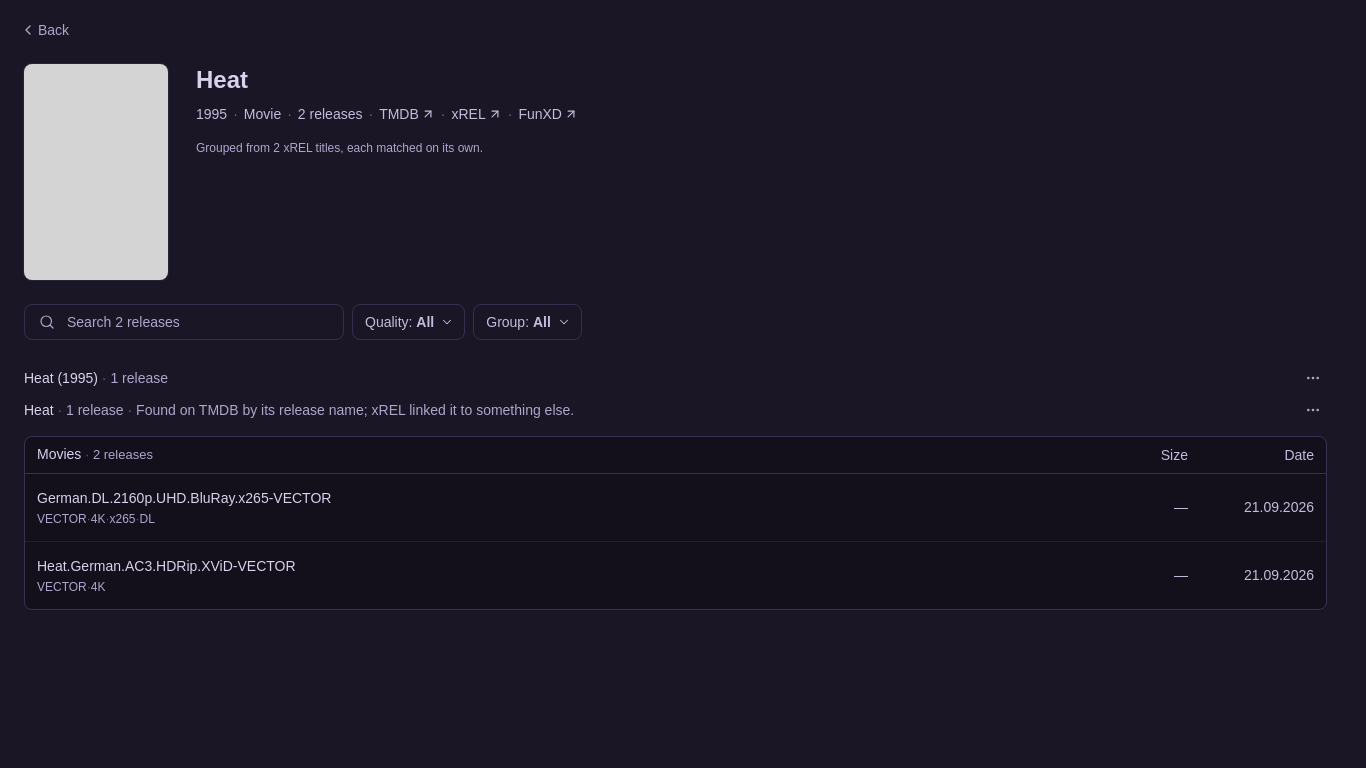
Scenario: TitleView › lists every title on a merged tile with its menu, over one table of their releases
Expected: the text "Grouped from 2 xREL titles, each matched on its own." is shown, [196,141,483,155]
Expected: the text "Heat (1995)" reads "Heat (1995) · 1 release", [24,370,168,386]
Click the button named "More options for Heat": (1313, 410) [1299,396,1327,424]
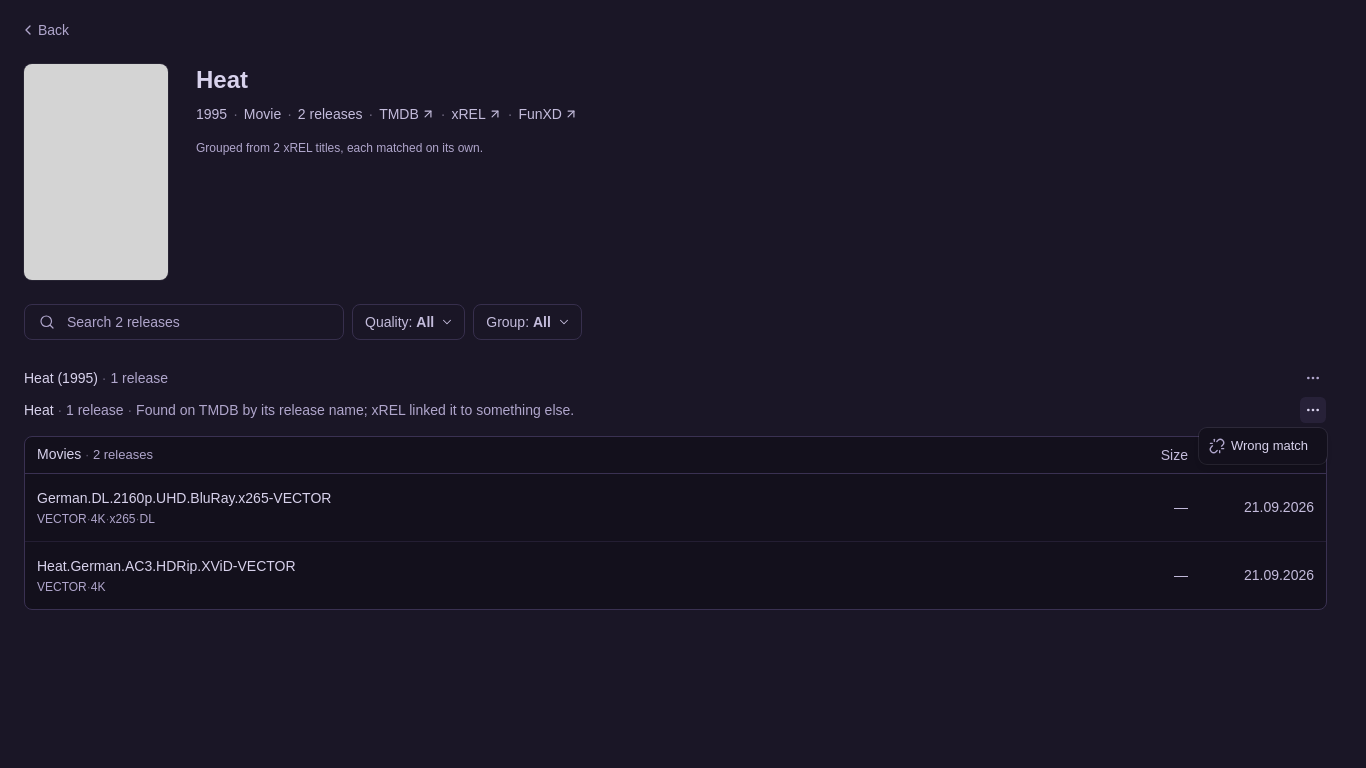
Click the menu item "Wrong match": (1259, 446) [1209,438,1308,454]
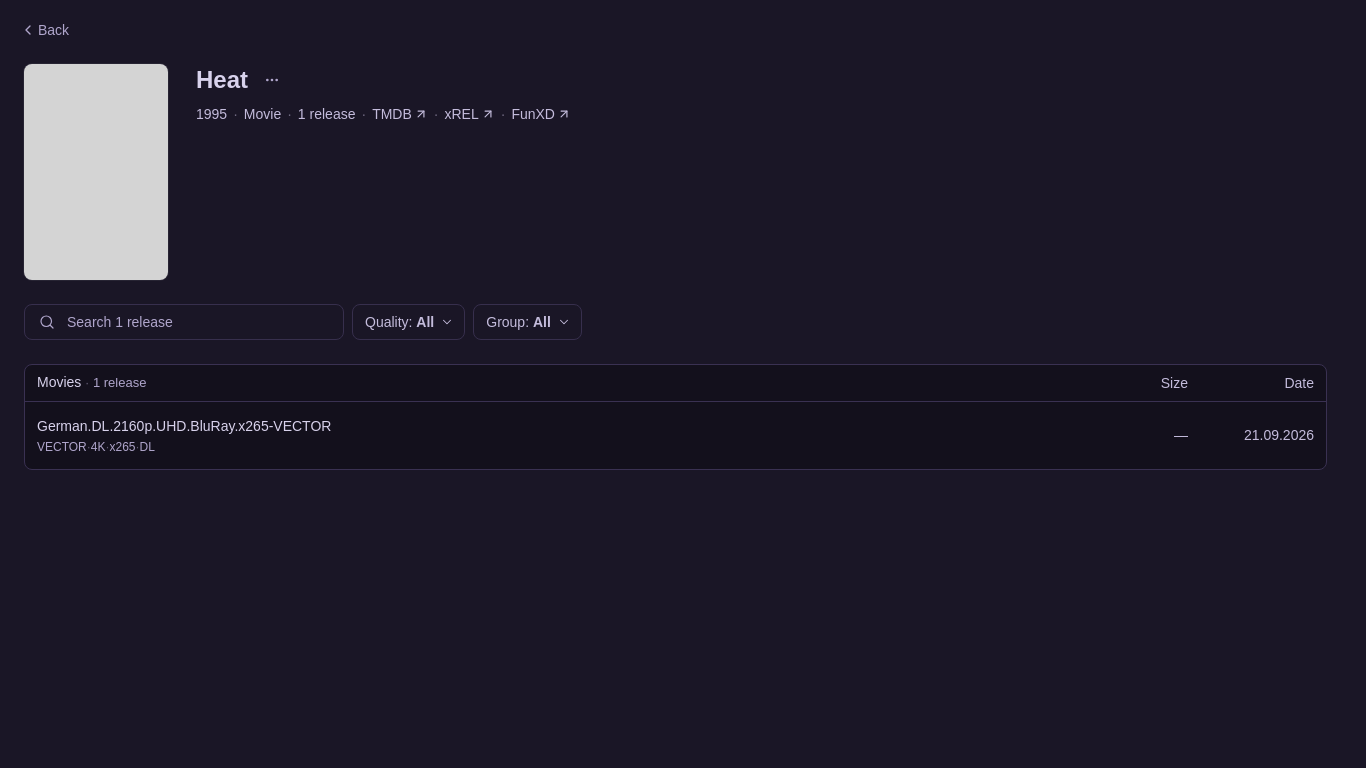
Expected: the link "HDRip" is gone
Expected: the text "Grouped from" is gone
